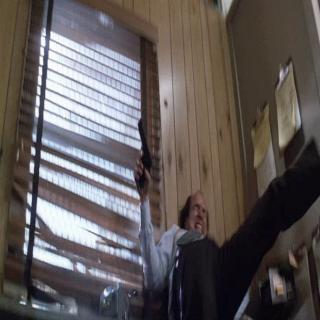gun: (131, 109, 150, 197)
